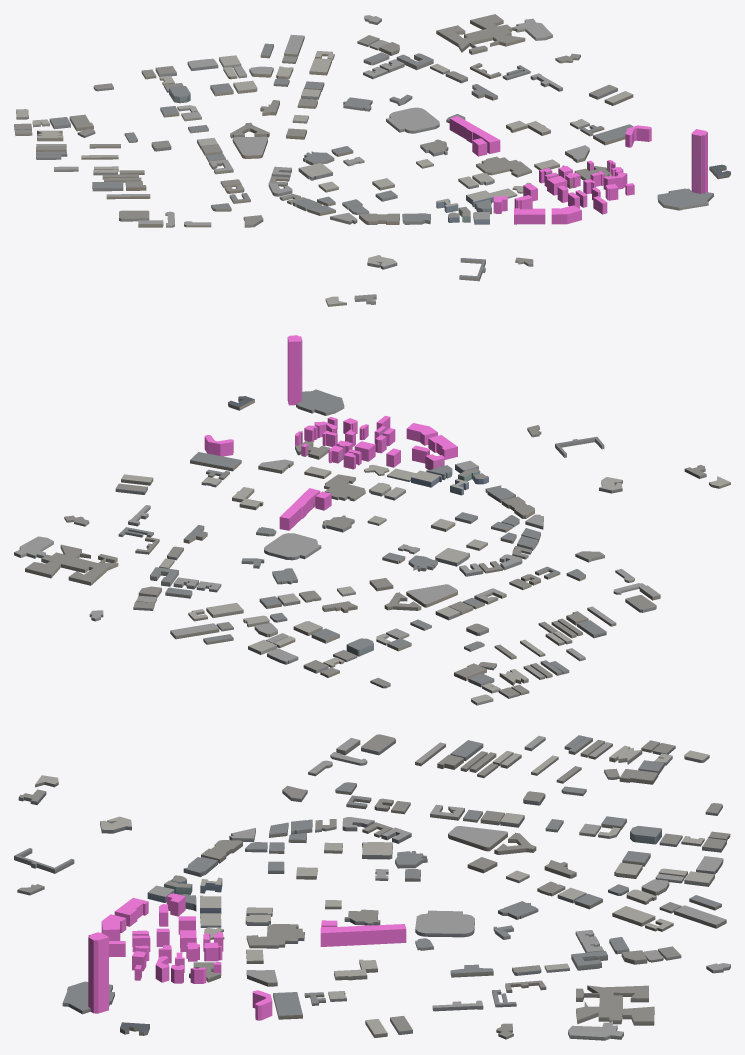
Rendered from bld_14_11.fbx.
3 renders of one model, top to bottom at view 1: azimuth 30°, elevation 25°; view 2: azimuth 150°, elevation 25°; view 3: azimuth 270°, elevation 25°, orthographic. The views are drawn at different scales.
Visible parts, largest first — view 1: bld_14_11_LOD0, bld_14_11_COL; view 2: bld_14_11_LOD0, bld_14_11_COL; view 3: bld_14_11_LOD0, bld_14_11_COL.
Part boxes in pixels (x1=…): bld_14_11_LOD0: x1=14, y1=14, x2=730, y2=306; bld_14_11_COL: x1=449, y1=116, x2=707, y2=224; bld_14_11_LOD0: x1=14, y1=342, x2=730, y2=705; bld_14_11_COL: x1=204, y1=335, x2=457, y2=530; bld_14_11_LOD0: x1=14, y1=734, x2=730, y2=1040; bld_14_11_COL: x1=88, y1=893, x2=406, y2=1020.
Size of what is drawn, in the model's own units: 2041 by 230 by 2042.
